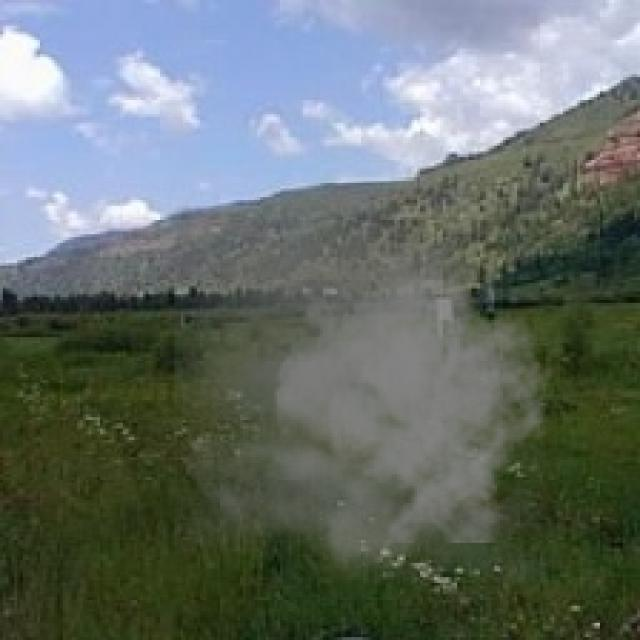Smoke: (174, 217, 557, 583)
